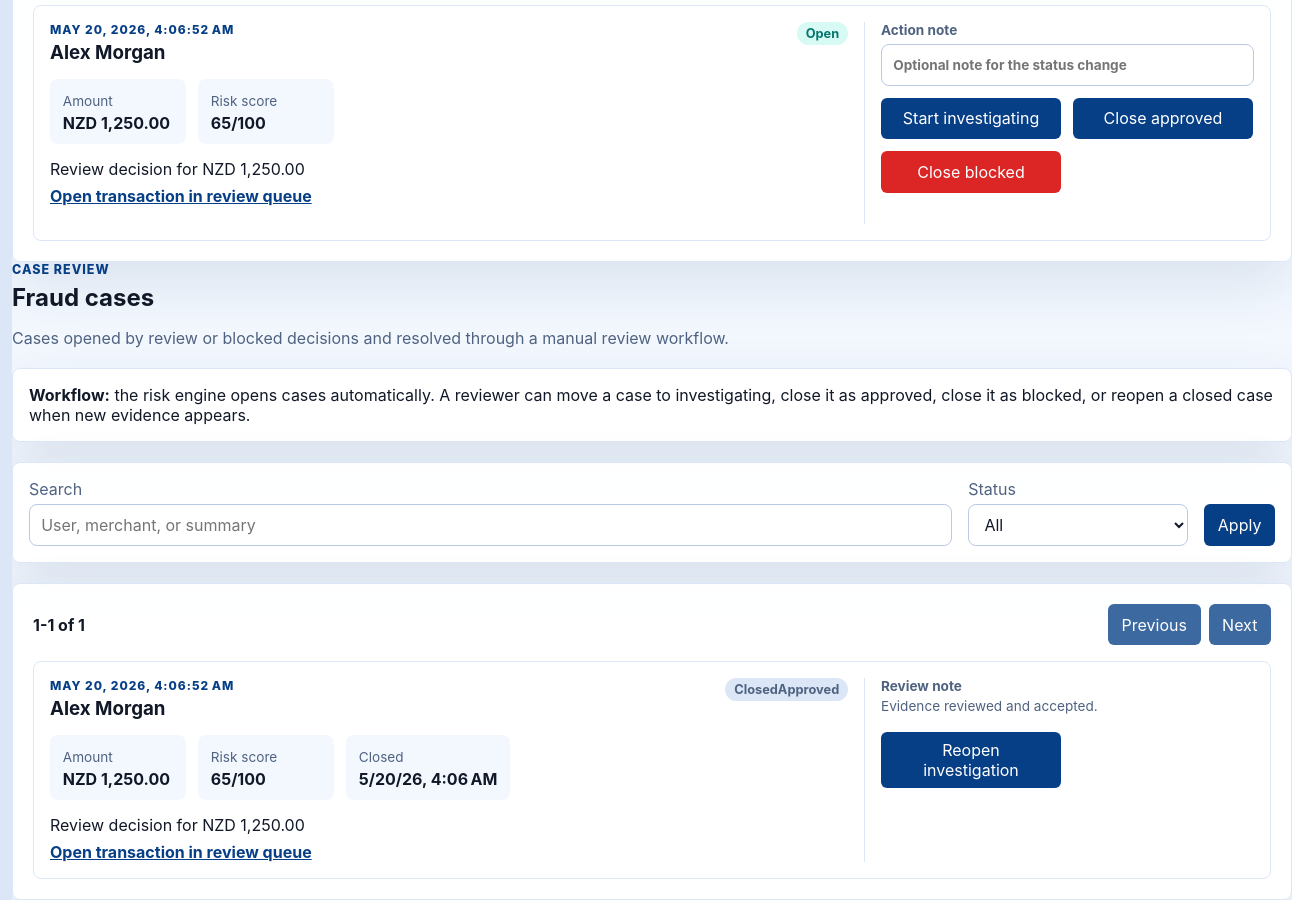
Scenario: FraudCasesComponent › does not send a note when reopening a closed case
This screenshot has width=1292, height=900.
(page scrolled)
Step 1. Click the button "Reopen investigation" → (971, 760), box [881,732,1061,788]
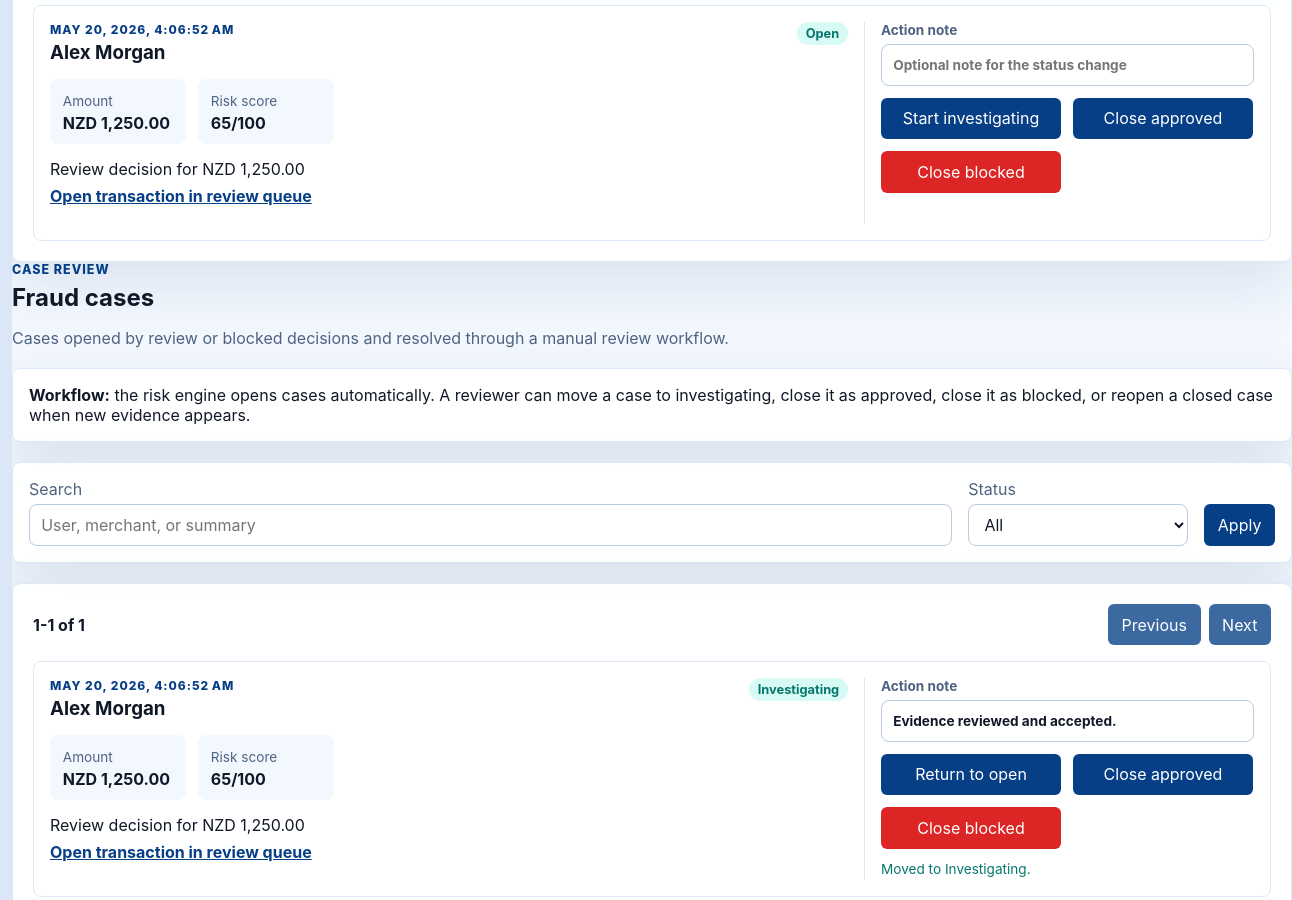
Expected: the 2nd field labelled "Action note" holds "Evidence reviewed and accepted.", [881,700,1254,742]
